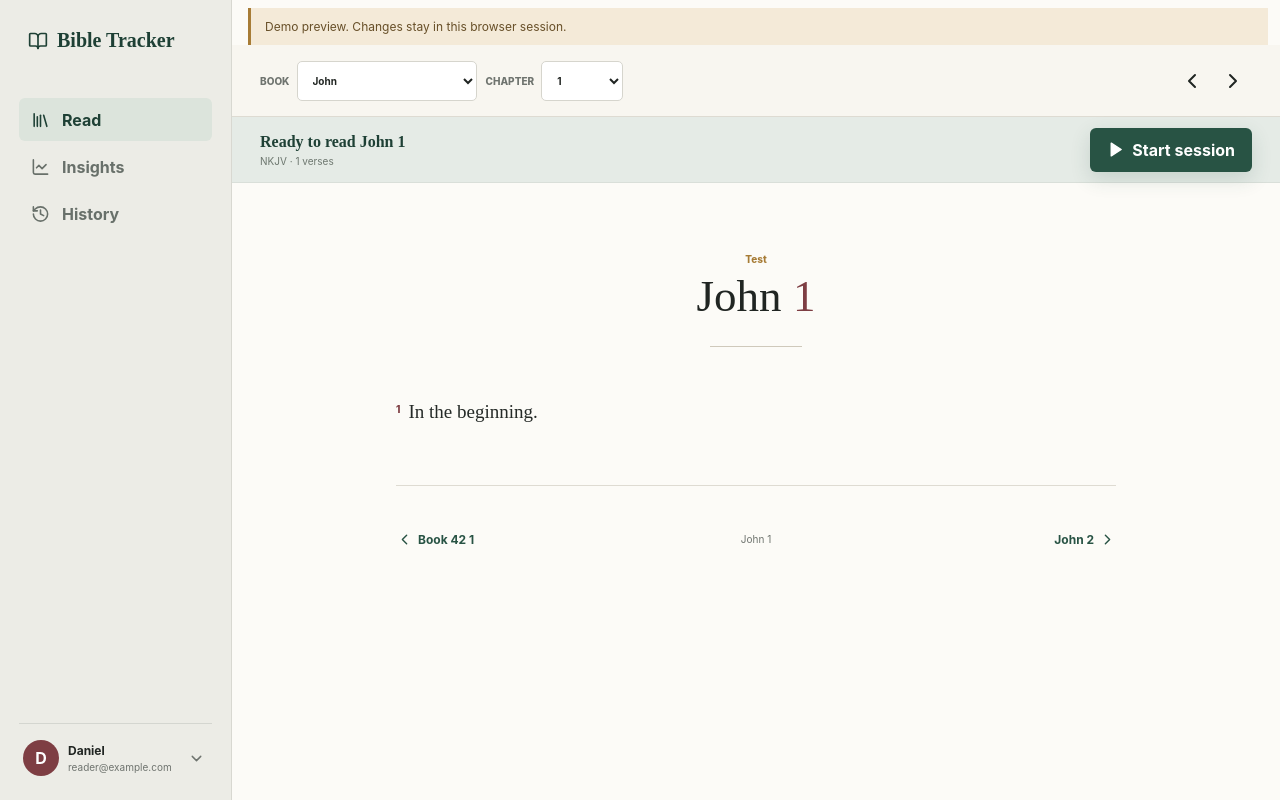
reading session timer › freezes the duration and submits that final time immediately
Click the button "Start session": (1171, 150) [1090,128,1252,172]
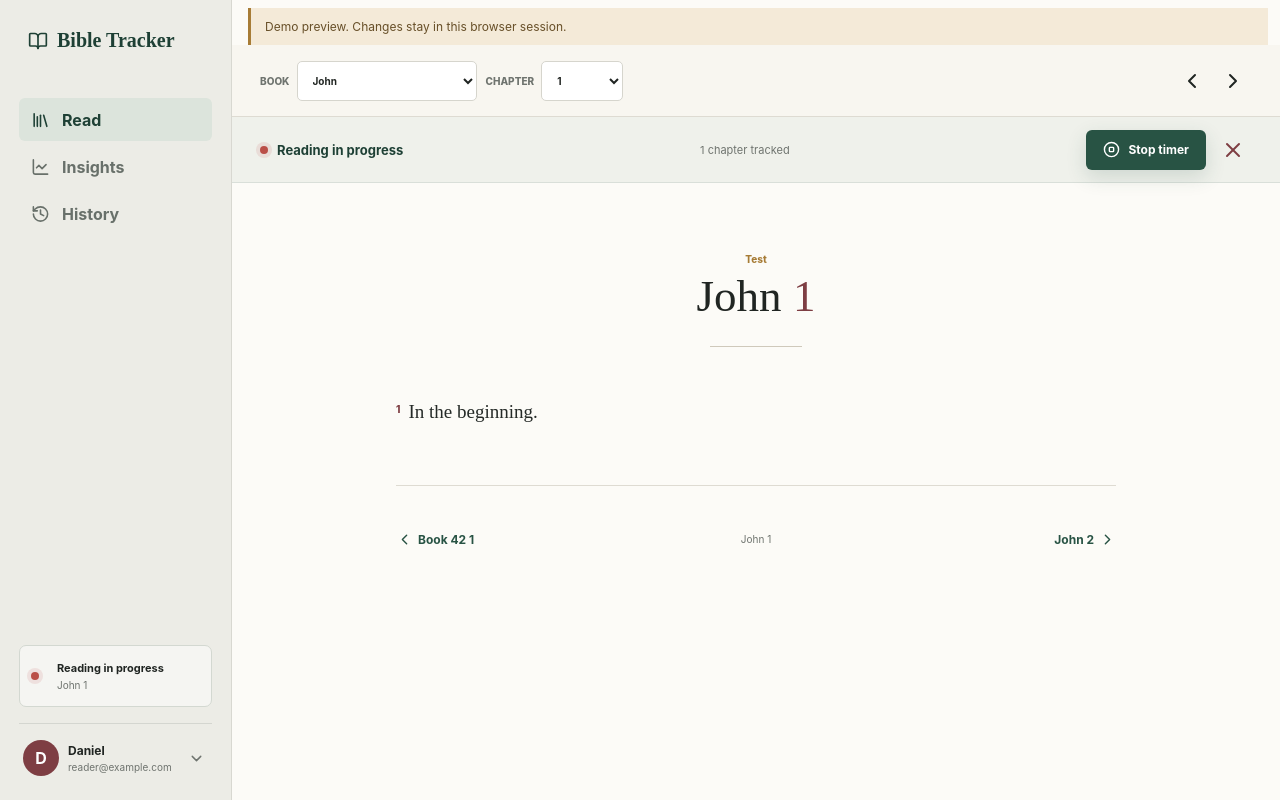
Click the button "Stop timer": (1146, 150) [1086,130,1206,170]
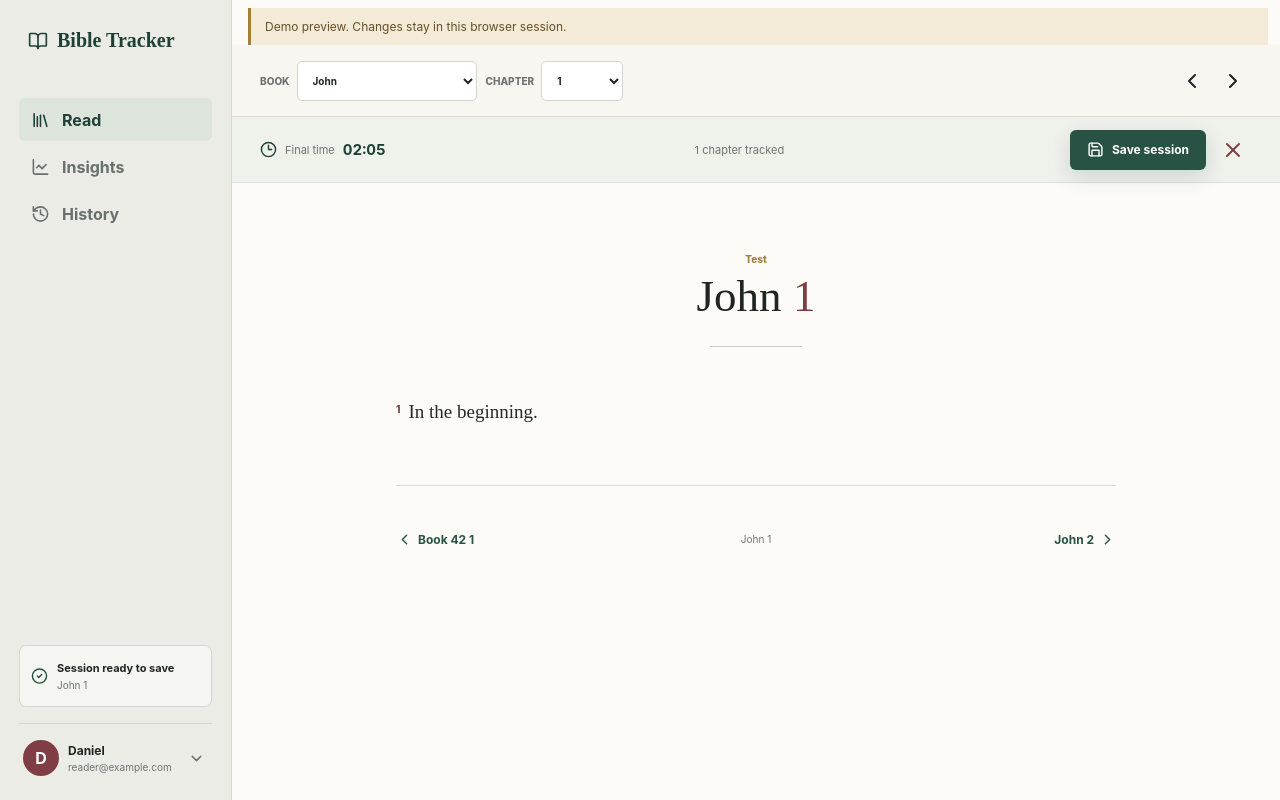
Check: the text "Final time" is shown, box [285,142,335,156]
Check: the text "02:05" is shown, box [343,140,386,159]
Click the button "Save session": (1138, 150) [1070,130,1206,170]
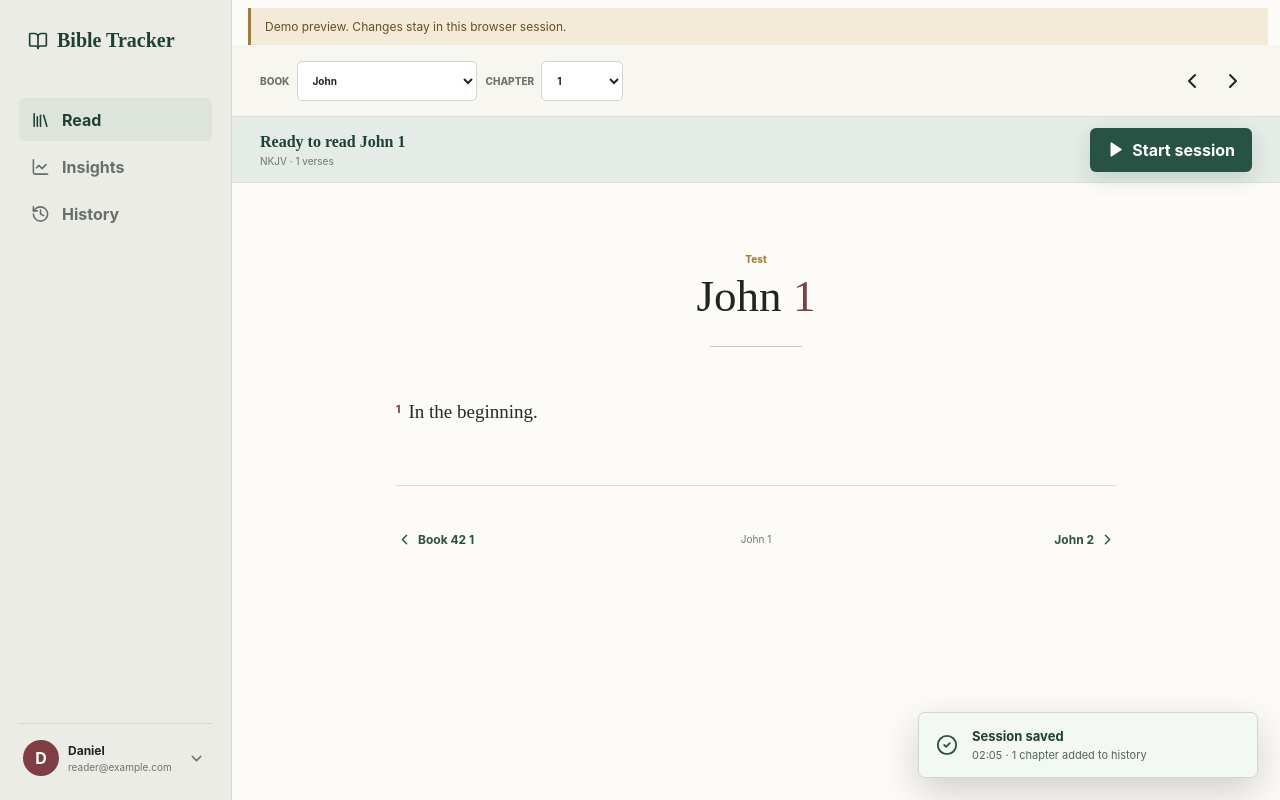
Check: the message shows "Session saved", box [972,728,1064,744]
Check: the message shows "02:05 · 1 chapter added to history", box [972,748,1147,762]
